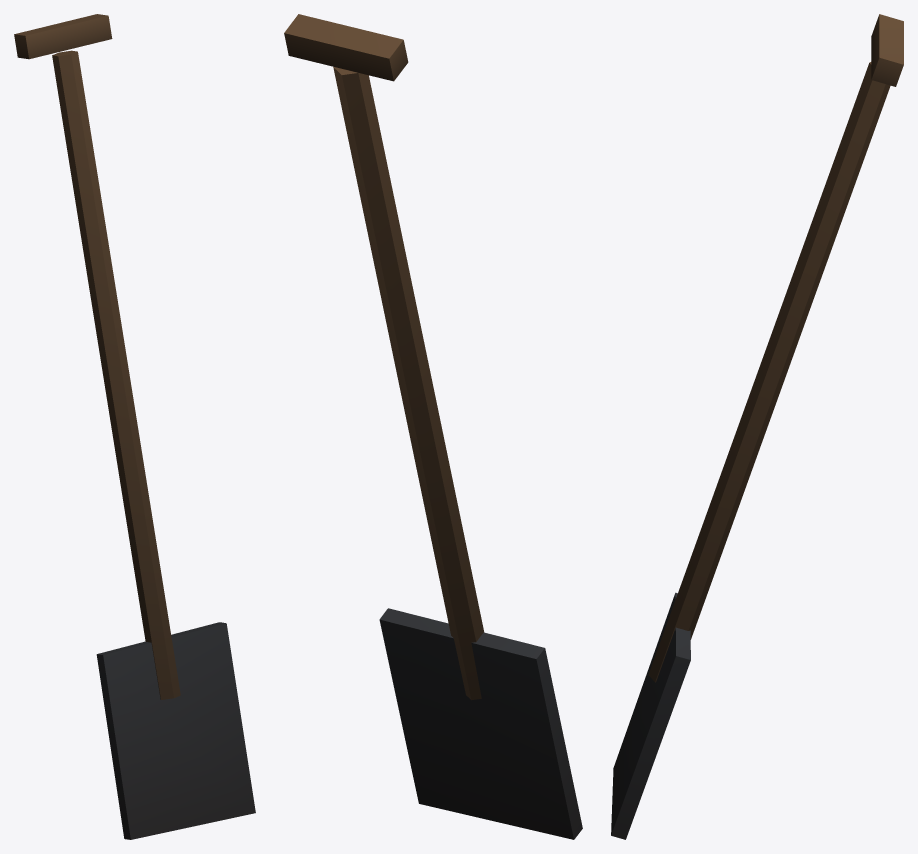
The model's file is ph_prop_shovel.glb.
3 views of the same model, side by side, from view 1: azimuth 30°, elevation 25°; view 2: azimuth 150°, elevation 25°; view 3: azimuth 270°, elevation 25° (orthographic). The views are drawn at different scales.
Visible parts, largest first — view 1: ph_prop_shovel; view 2: ph_prop_shovel; view 3: ph_prop_shovel.
Part boxes in pixels (x1,y1,x2,y2): ph_prop_shovel: (14,14,255,839); ph_prop_shovel: (284,14,582,839); ph_prop_shovel: (611,14,903,839).
Size of the model in its own units: 0.2404 by 1.32 by 0.4536.
